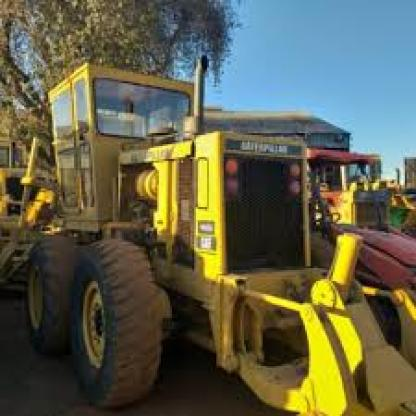bull_dozer/loader/grader: (19, 50, 414, 414)
